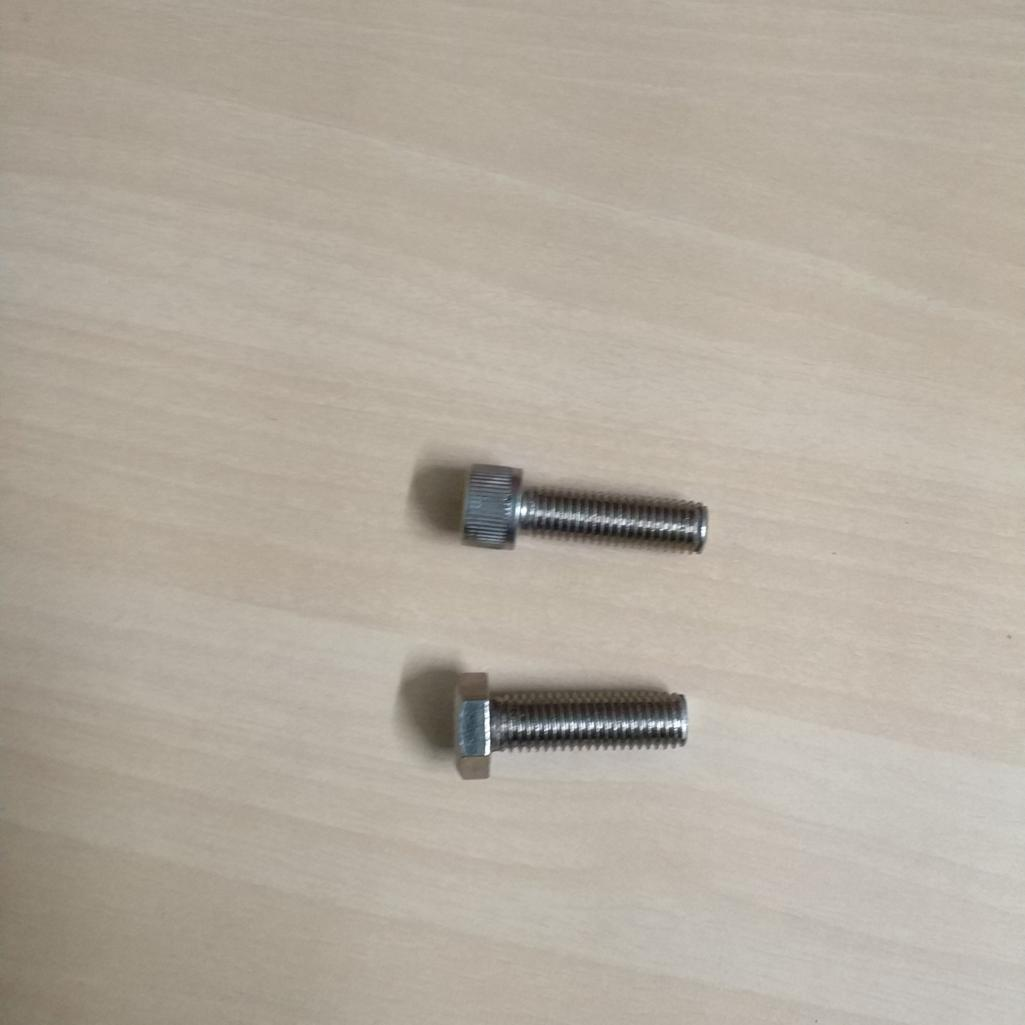screwtype1silver: (441, 447, 716, 575)
screwtype2silver: (442, 671, 695, 791)
